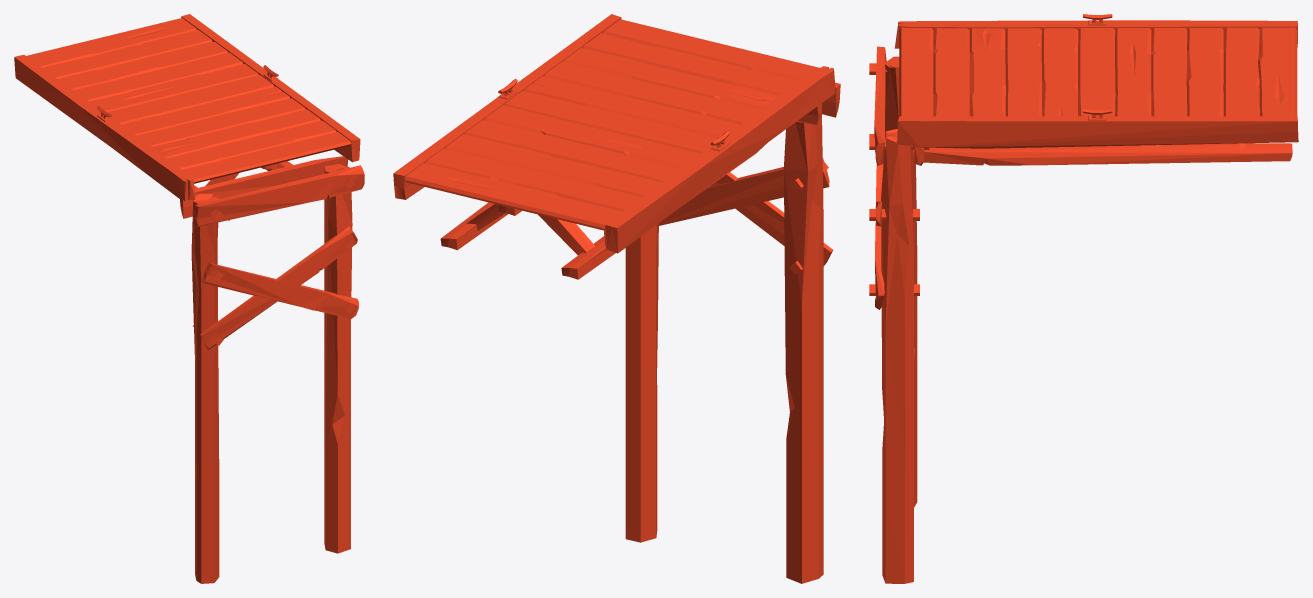
The model's file is SM_Pier_Long_Bollard_City.fbx.
3 views of the same model, side by side, from view 1: azimuth 30°, elevation 25°; view 2: azimuth 150°, elevation 25°; view 3: azimuth 270°, elevation 25° (orthographic). The views are drawn at different scales.
Parts seen in each view (by area): view 1: SM_Pier_Long_Bollard_City; view 2: SM_Pier_Long_Bollard_City; view 3: SM_Pier_Long_Bollard_City.
Part boxes in pixels (x1,y1,x2,y2): SM_Pier_Long_Bollard_City: (14, 14, 364, 583); SM_Pier_Long_Bollard_City: (393, 14, 840, 583); SM_Pier_Long_Bollard_City: (869, 14, 1298, 583).
Bounding box in the file's own units: 3 × 6.66 × 5.39.
